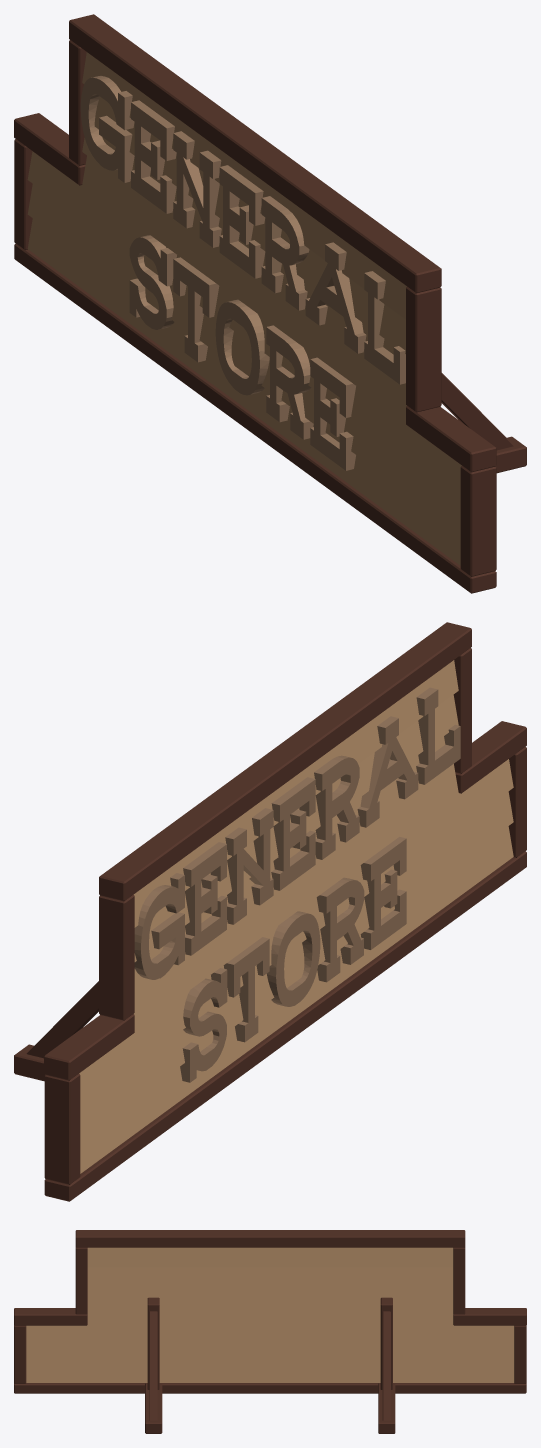
File: general-sign-c.glb
3 renders of one model, top to bottom at view 1: azimuth 30°, elevation 25°; view 2: azimuth 150°, elevation 25°; view 3: azimuth 270°, elevation 25°, orthographic. The views are drawn at different scales.
Parts seen in each view (by area): view 1: General Sign C (×3); view 2: General Sign C (×3); view 3: General Sign C (×2).
Part boxes in pixels (x1,y1,x2,y2): General Sign C (×3): (14,14,526,593); General Sign C (×3): (14,622,526,1201); General Sign C (×2): (14,1230,526,1433).
Bounding box in the file's own units: 1.46 × 2.23 × 6.6.
